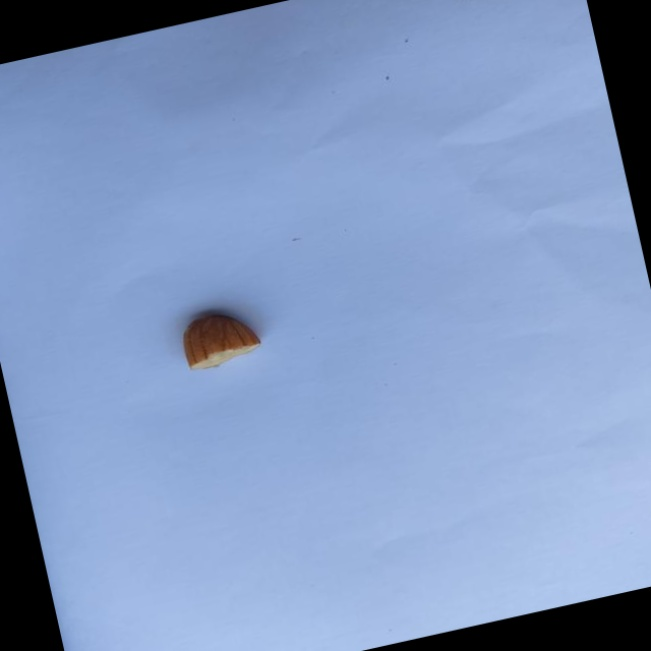grade4: (169, 297, 273, 379)
